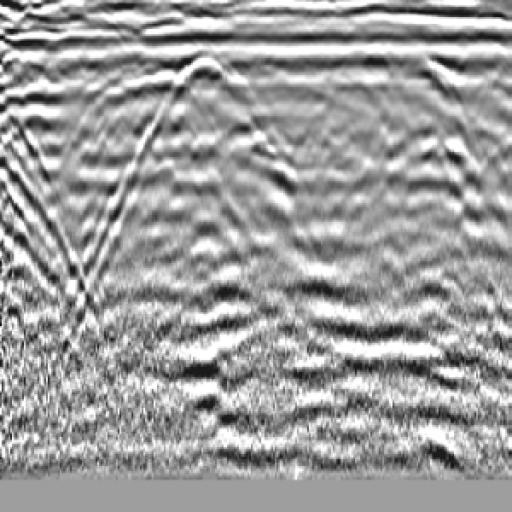metalic: (128, 38, 258, 140)
